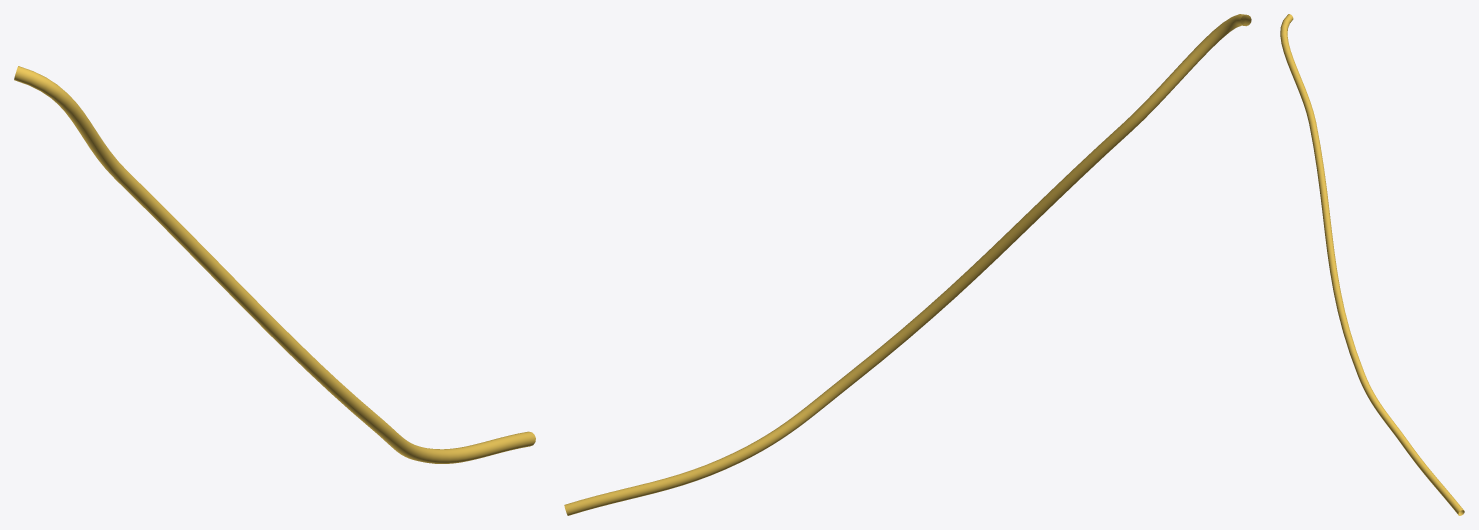
File: Lateral_cord_brachial_plexus_left.glb
The picture shows the model from 3 angles, left to right: view 1: azimuth 30°, elevation 25°; view 2: azimuth 150°, elevation 25°; view 3: azimuth 270°, elevation 25°; orthographic projection. The views are drawn at different scales.
Parts seen in each view (by area): view 1: Lateral_cord_of_brachial_plexus.l_BezierCurve.518; view 2: Lateral_cord_of_brachial_plexus.l_BezierCurve.518; view 3: Lateral_cord_of_brachial_plexus.l_BezierCurve.518.
Part boxes in pixels (left/top/right/bottom): Lateral_cord_of_brachial_plexus.l_BezierCurve.518: left=14, top=66, right=535, bottom=463; Lateral_cord_of_brachial_plexus.l_BezierCurve.518: left=564, top=14, right=1251, bottom=515; Lateral_cord_of_brachial_plexus.l_BezierCurve.518: left=1280, top=14, right=1464, bottom=515.
Bounding box in the file's own units: 0.0534 × 0.0495 × 0.0246.
